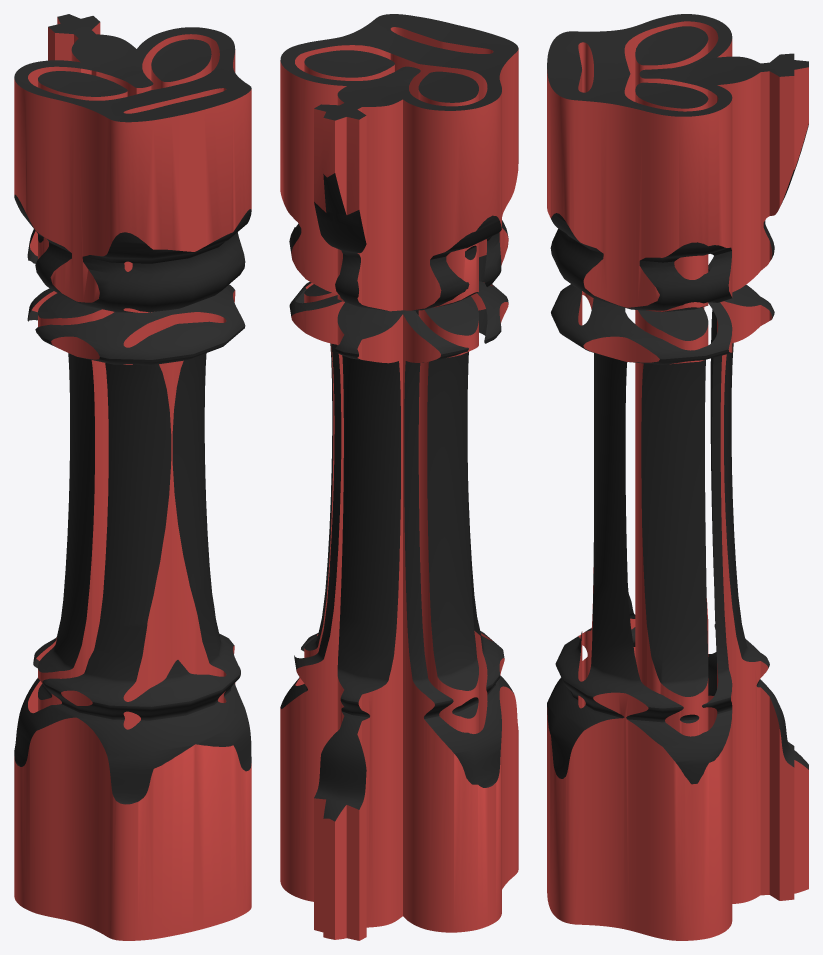
Rendered from Black_King.fbx.
3 renders of one model, left to right at view 1: azimuth 30°, elevation 25°; view 2: azimuth 150°, elevation 25°; view 3: azimuth 270°, elevation 25°, orthographic.
Visible parts, largest first — view 1: Black_King; view 2: Black_King; view 3: Black_King.
Boxes of the visible parts, x1,y1,x2,y2 form: Black_King: [14, 14, 251, 940]; Black_King: [280, 14, 518, 940]; Black_King: [547, 14, 808, 940].
Bounding box in the file's own units: 41.17 × 44.5 × 155.
